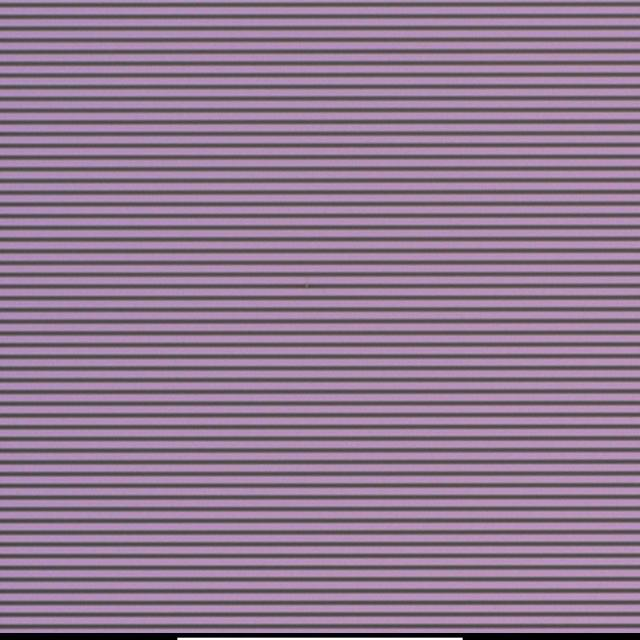03_intrusion: (302, 280, 310, 291)
